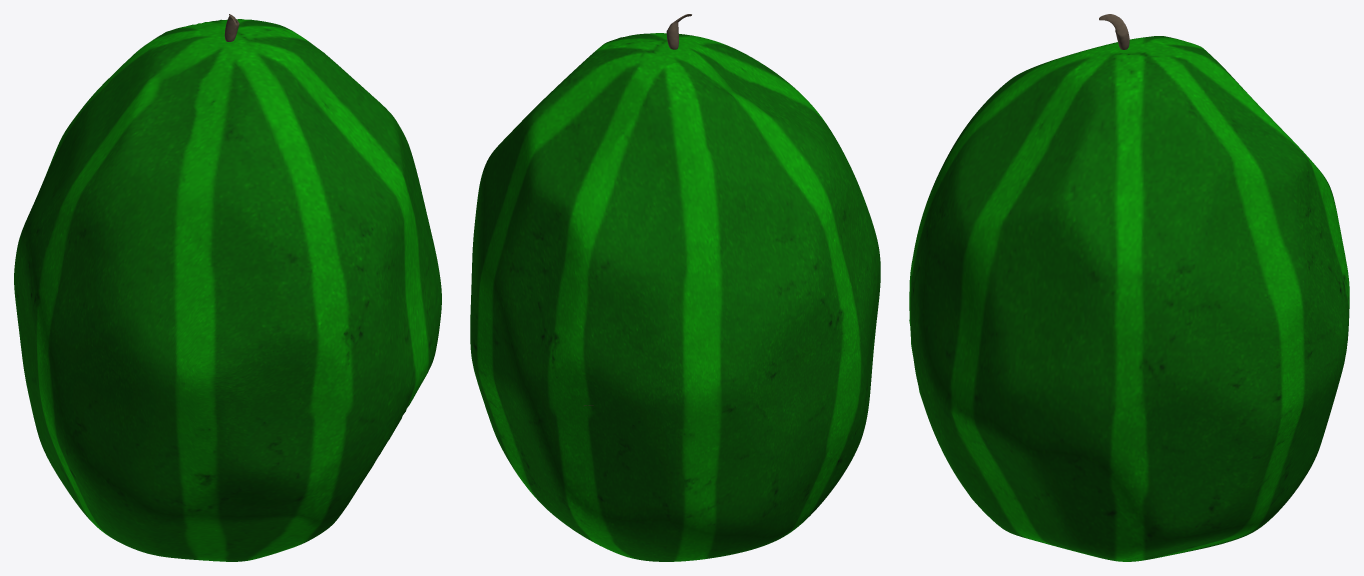
The picture shows the model from 3 angles, left to right: view 1: azimuth 30°, elevation 25°; view 2: azimuth 150°, elevation 25°; view 3: azimuth 270°, elevation 25°; orthographic projection. The views are drawn at different scales.
Visible parts, largest first — view 1: ZBrush_defualt_group; view 2: ZBrush_defualt_group; view 3: ZBrush_defualt_group.
Part boxes in pixels (box(x1,y1,x2,y2)): ZBrush_defualt_group: box(14, 19, 441, 561); ZBrush_defualt_group: box(470, 33, 880, 561); ZBrush_defualt_group: box(909, 36, 1349, 561).
Bounding box in the file's own units: 9.73 × 13.21 × 9.82.
1 material, 1 textured.
